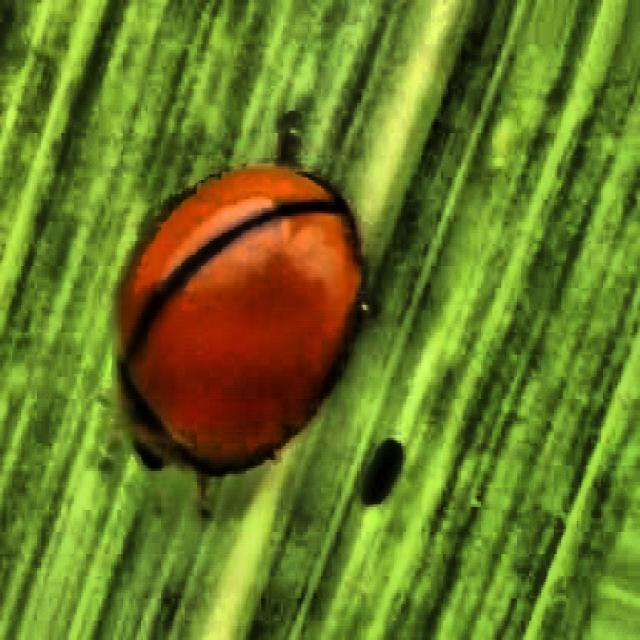Ladybug: (90, 106, 368, 532)
